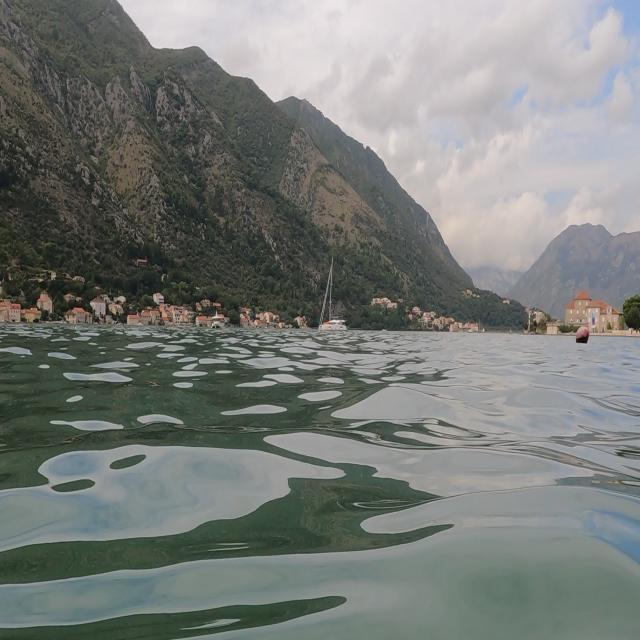boat: (316, 251, 348, 334)
buoy: (574, 322, 594, 348)
